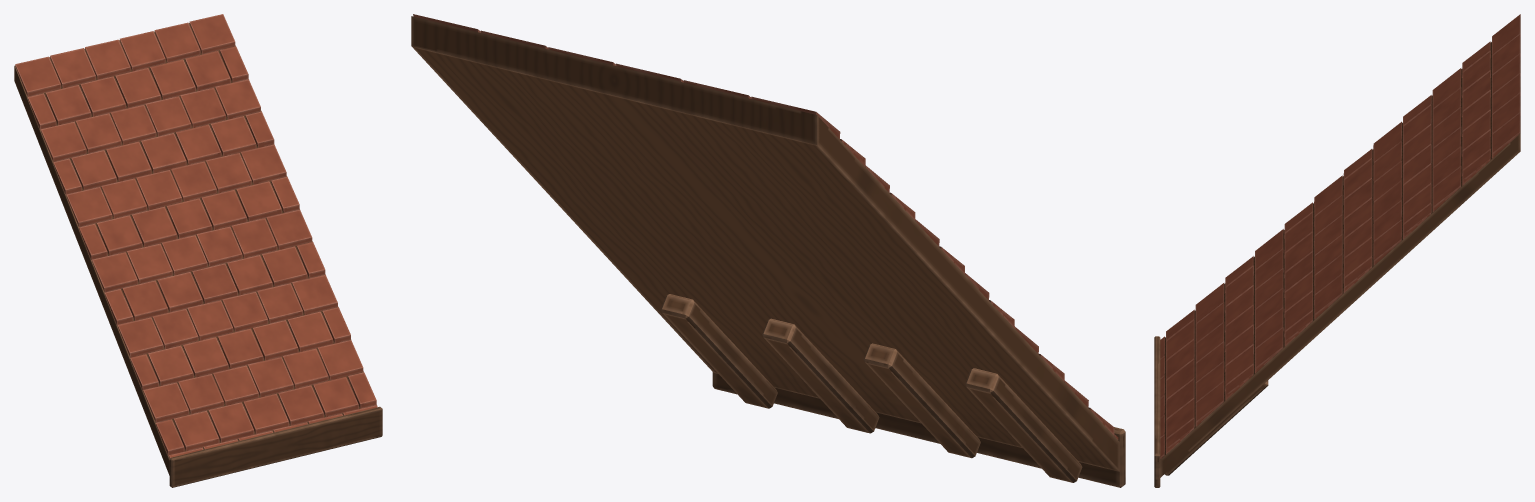
The model's file is house_roof_section_godot.glb.
The picture shows the model from 3 angles, left to right: view 1: azimuth 30°, elevation 25°; view 2: azimuth 150°, elevation 25°; view 3: azimuth 270°, elevation 25°; orthographic projection. The views are drawn at different scales.
Parts seen in each view (by area): view 1: house_roof_section_static; view 2: house_roof_section_static; view 3: house_roof_section_static.
Part boxes in pixels (<box>): house_roof_section_static: <box>14,14,382,487</box>; house_roof_section_static: <box>411,14,1125,487</box>; house_roof_section_static: <box>1154,14,1520,487</box>.
Size of what is drawn, in the model's own units: 2.02 by 2.82 by 2.62.
Materials: 2 (2 with a texture image).
